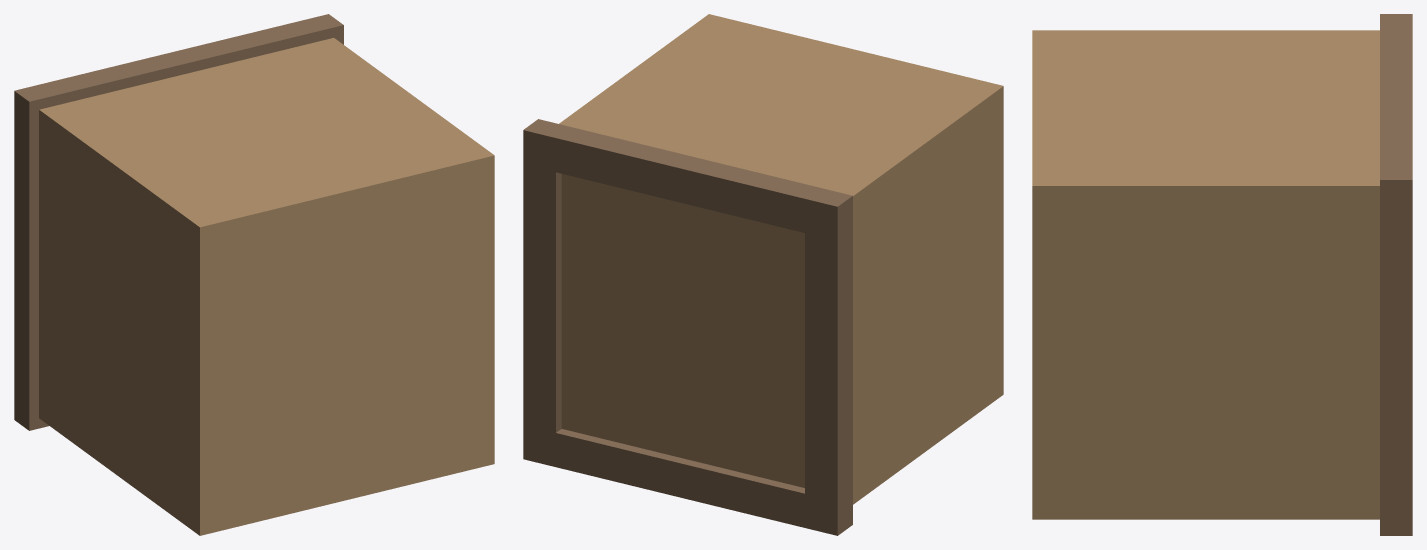
Rendered from crate.gltf.
The picture shows the model from 3 angles, left to right: view 1: azimuth 30°, elevation 25°; view 2: azimuth 150°, elevation 25°; view 3: azimuth 270°, elevation 25°; orthographic projection. The views are drawn at different scales.
Visible parts, largest first — view 1: crate; view 2: crate; view 3: crate.
Boxes of the visible parts, x1,y1,x2,y2 form: crate: (14,14,494,535); crate: (523,14,1003,535); crate: (1032,14,1412,535).
Bounding box in the file's own units: 0.96 × 0.96 × 0.93.
